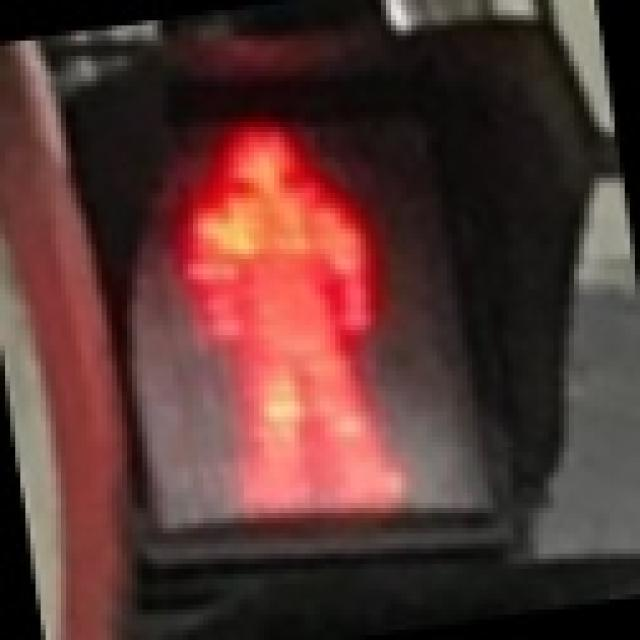red-crossing: (137, 81, 488, 544)
